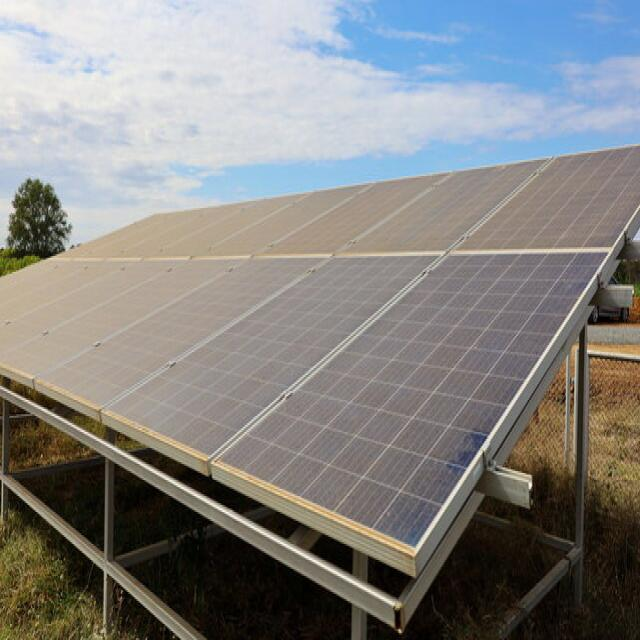dust-solar-panel: (0, 147, 639, 550)
